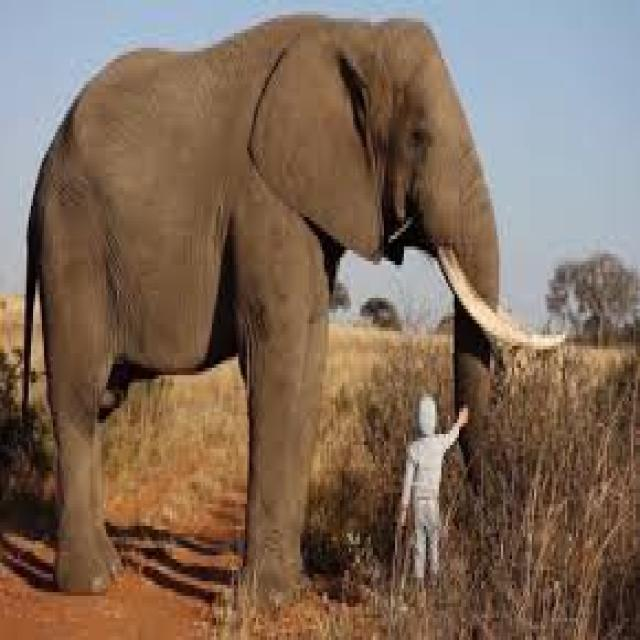Elephant: (20, 11, 565, 611)
